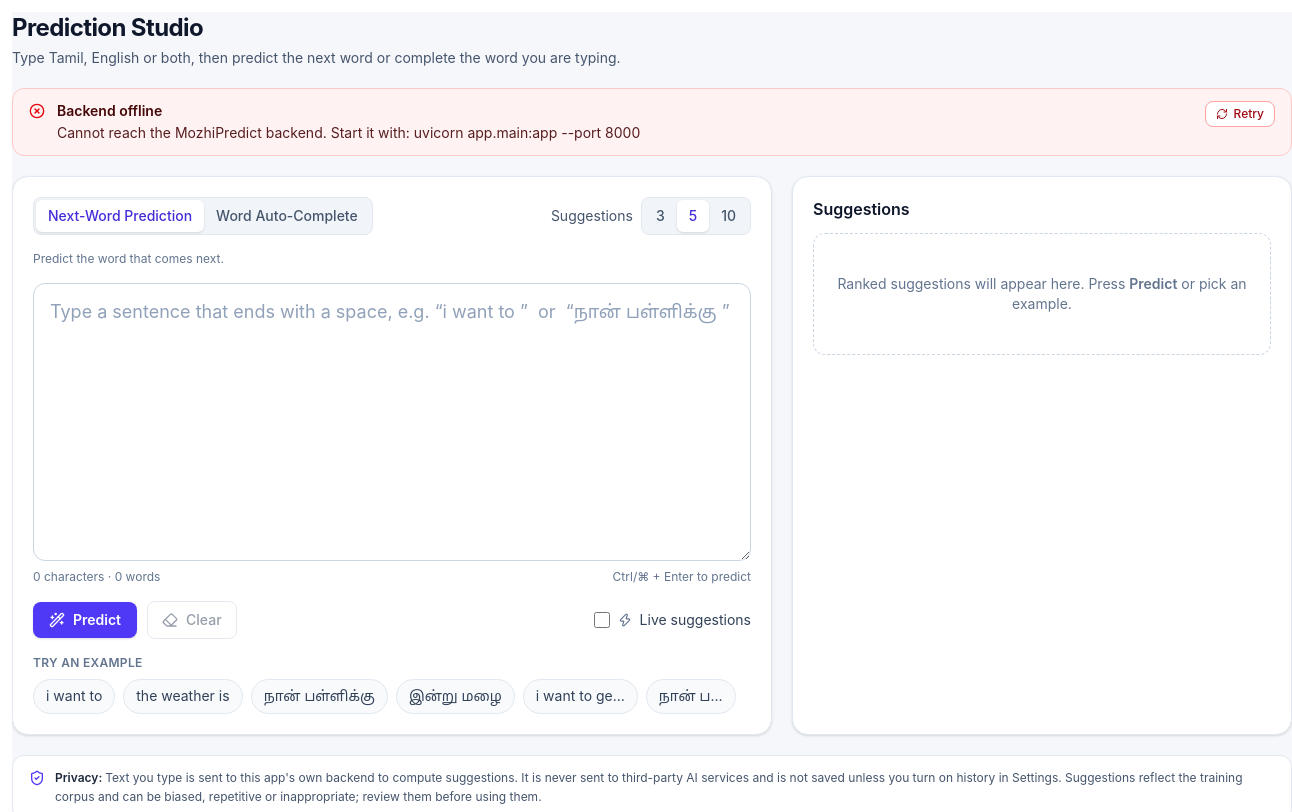
Test case: Prediction Studio › shows a clear error when the backend is unreachable
The image size is (1292, 812).
Click the text box named "Text to continue" at (392, 422), box [33, 283, 751, 561]
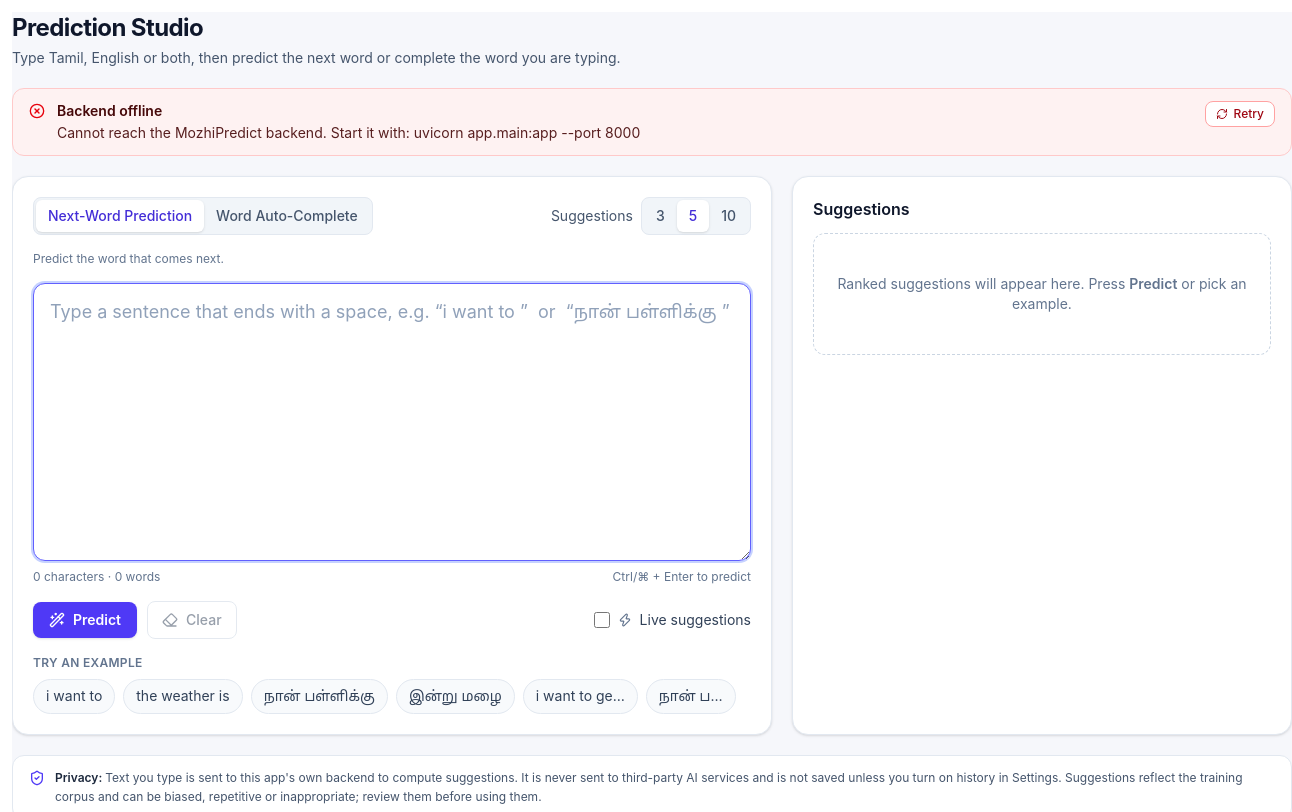
Type keys "i want to "
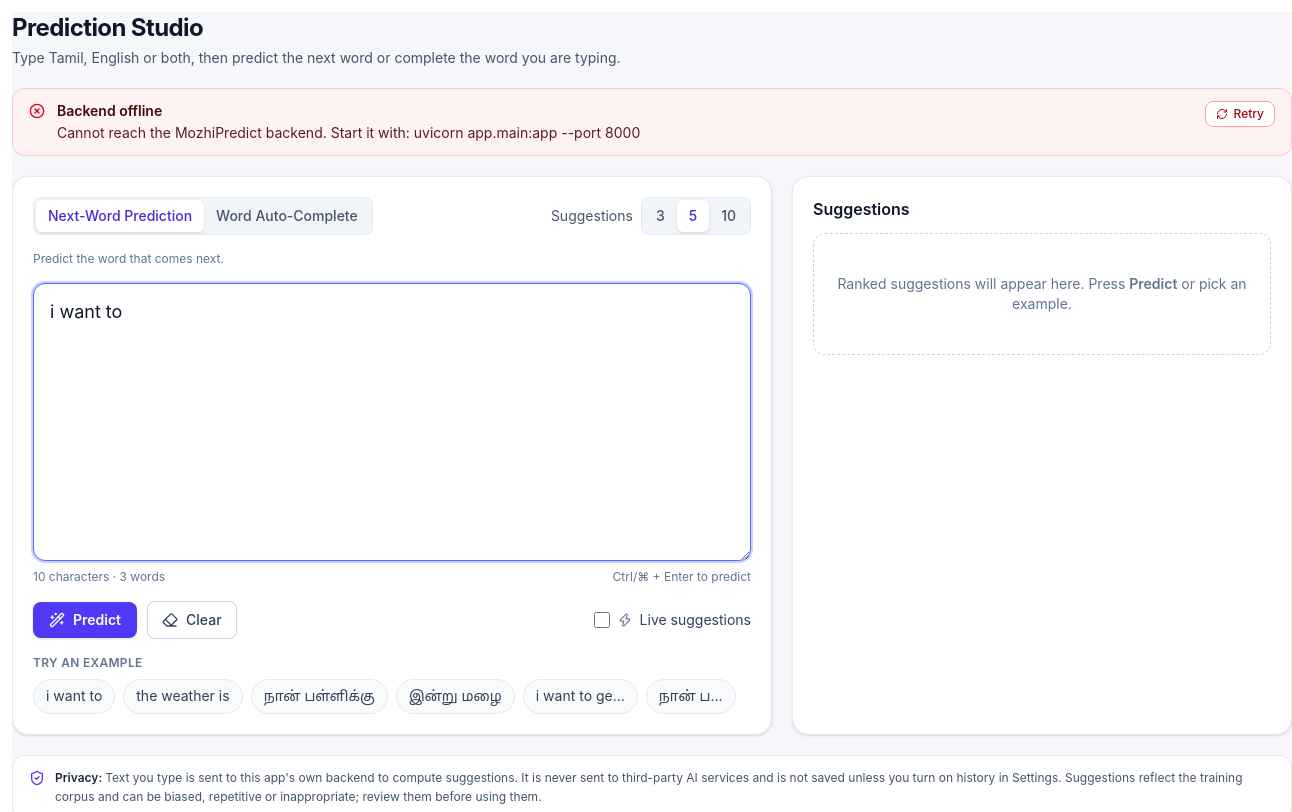
Click the button "Predict" at (85, 620), box [33, 602, 137, 638]
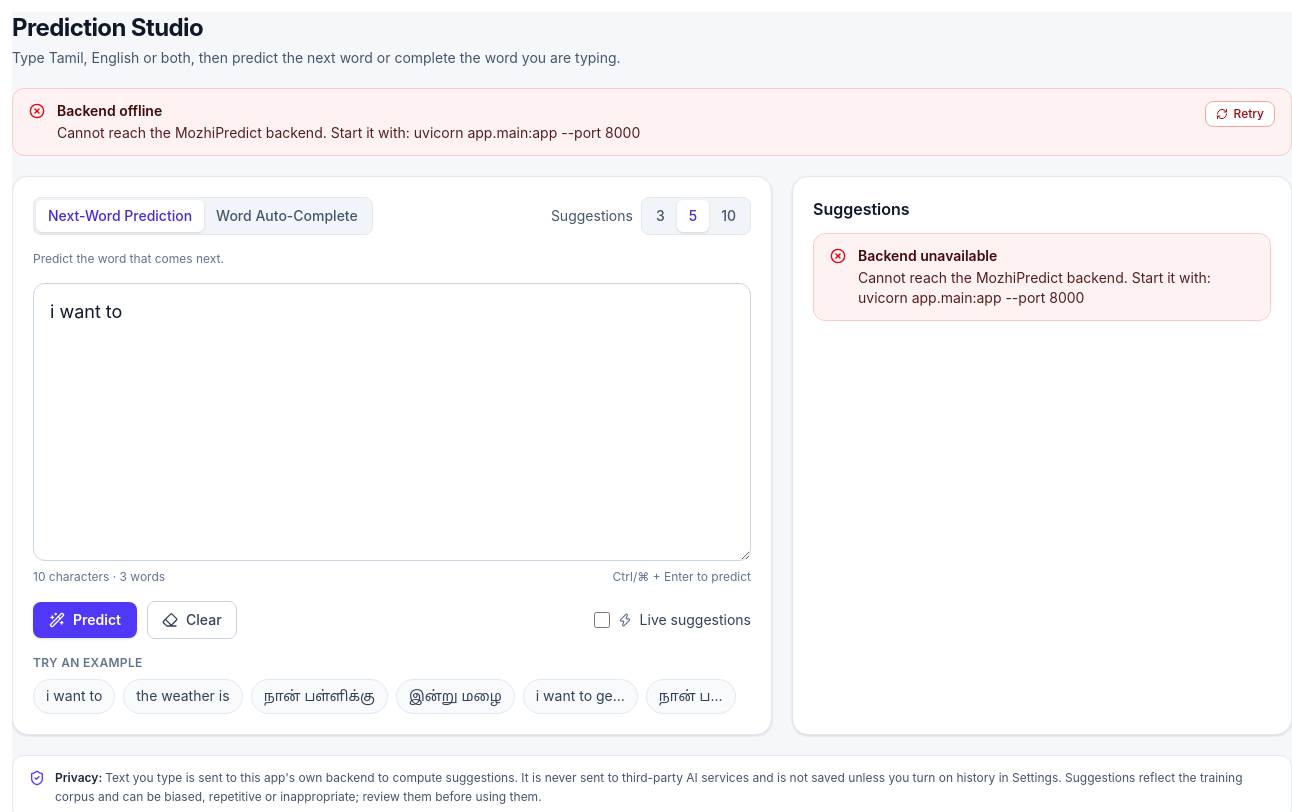
Expected: the text "Cannot reach the MozhiPredict backend" below "Backend offline" is shown, [57, 124, 640, 141]
Expected: the text "Backend unavailable" is shown, [858, 247, 997, 264]
